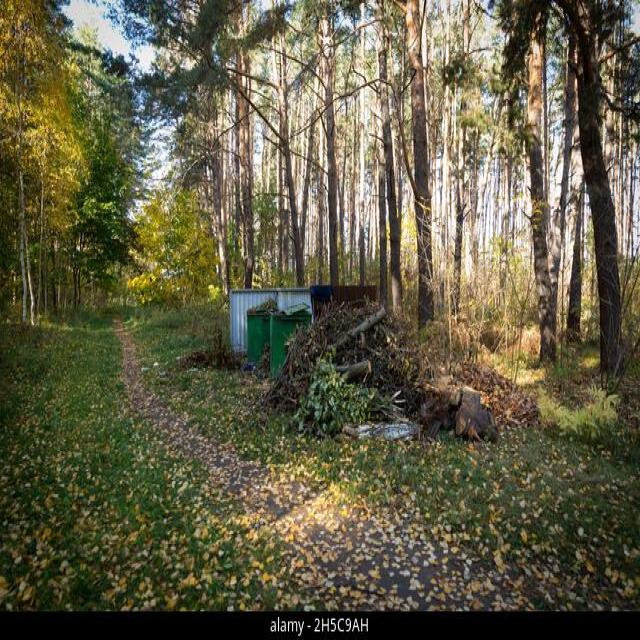trash: (206, 301, 492, 442)
